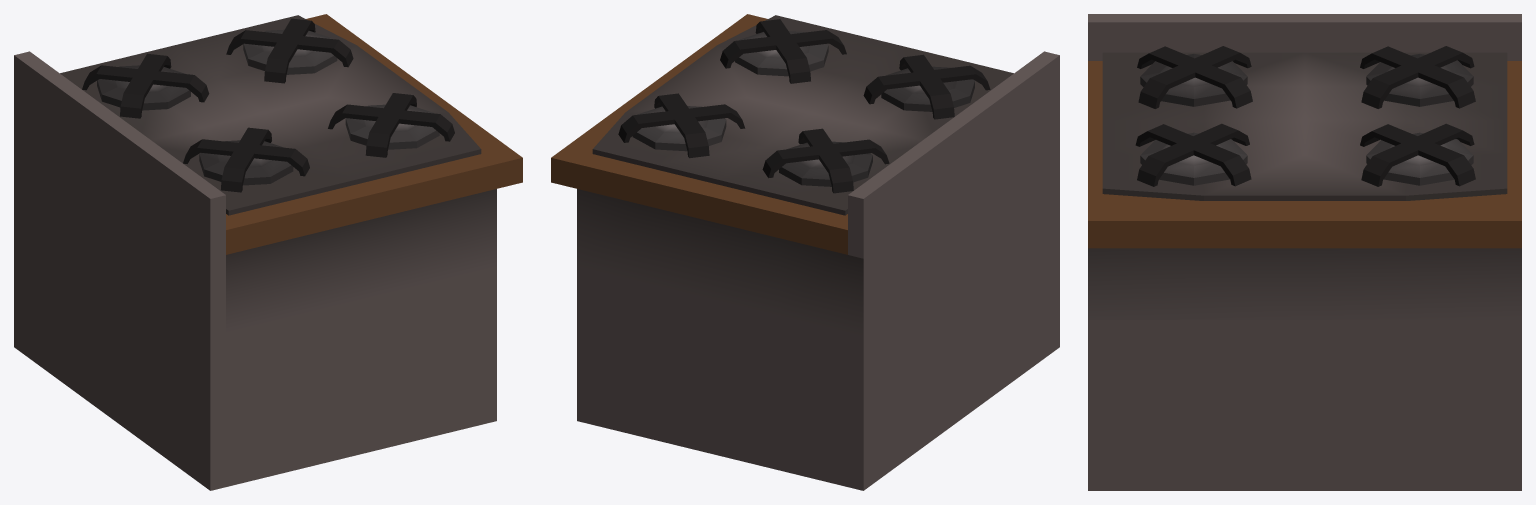
Rendered from Cozinha_01.fbx.
The picture shows the model from 3 angles, left to right: view 1: azimuth 30°, elevation 25°; view 2: azimuth 150°, elevation 25°; view 3: azimuth 270°, elevation 25°; orthographic projection. The views are drawn at different scales.
Parts seen in each view (by area): view 1: Plane.011; view 2: Plane.011; view 3: Plane.011.
Boxes of the visible parts, bbox=[...] form: Plane.011: bbox=[14, 14, 522, 490]; Plane.011: bbox=[551, 14, 1059, 490]; Plane.011: bbox=[1088, 14, 1521, 490].
Bounding box in the file's own units: 231 × 206 × 251.
